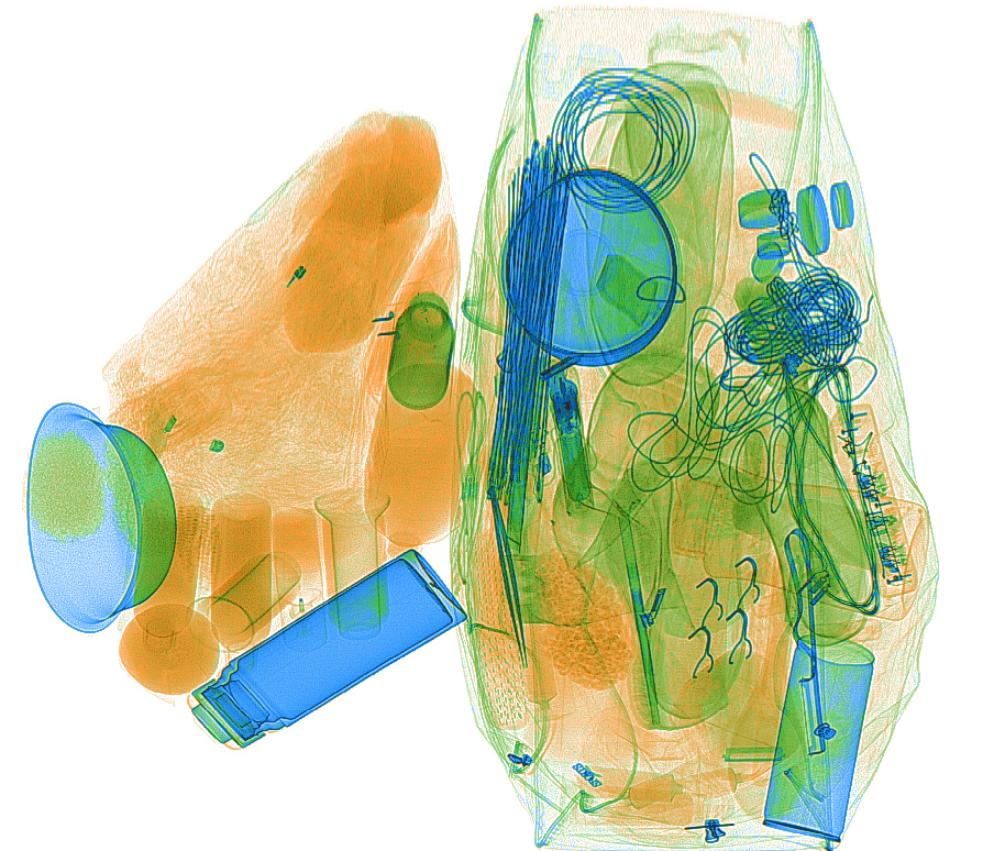battery: (551, 424, 592, 508)
plasticBottleWithaNozzle: (267, 500, 333, 648)
